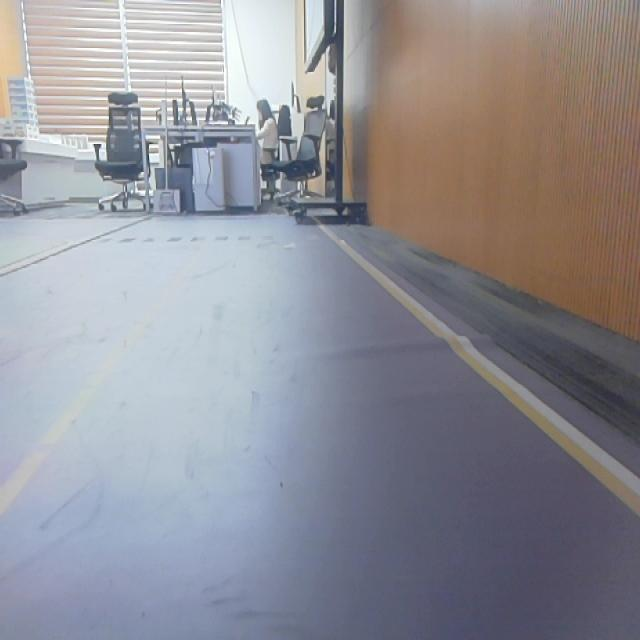left_lane: (0, 246, 204, 516)
right_lane: (327, 231, 640, 515)
